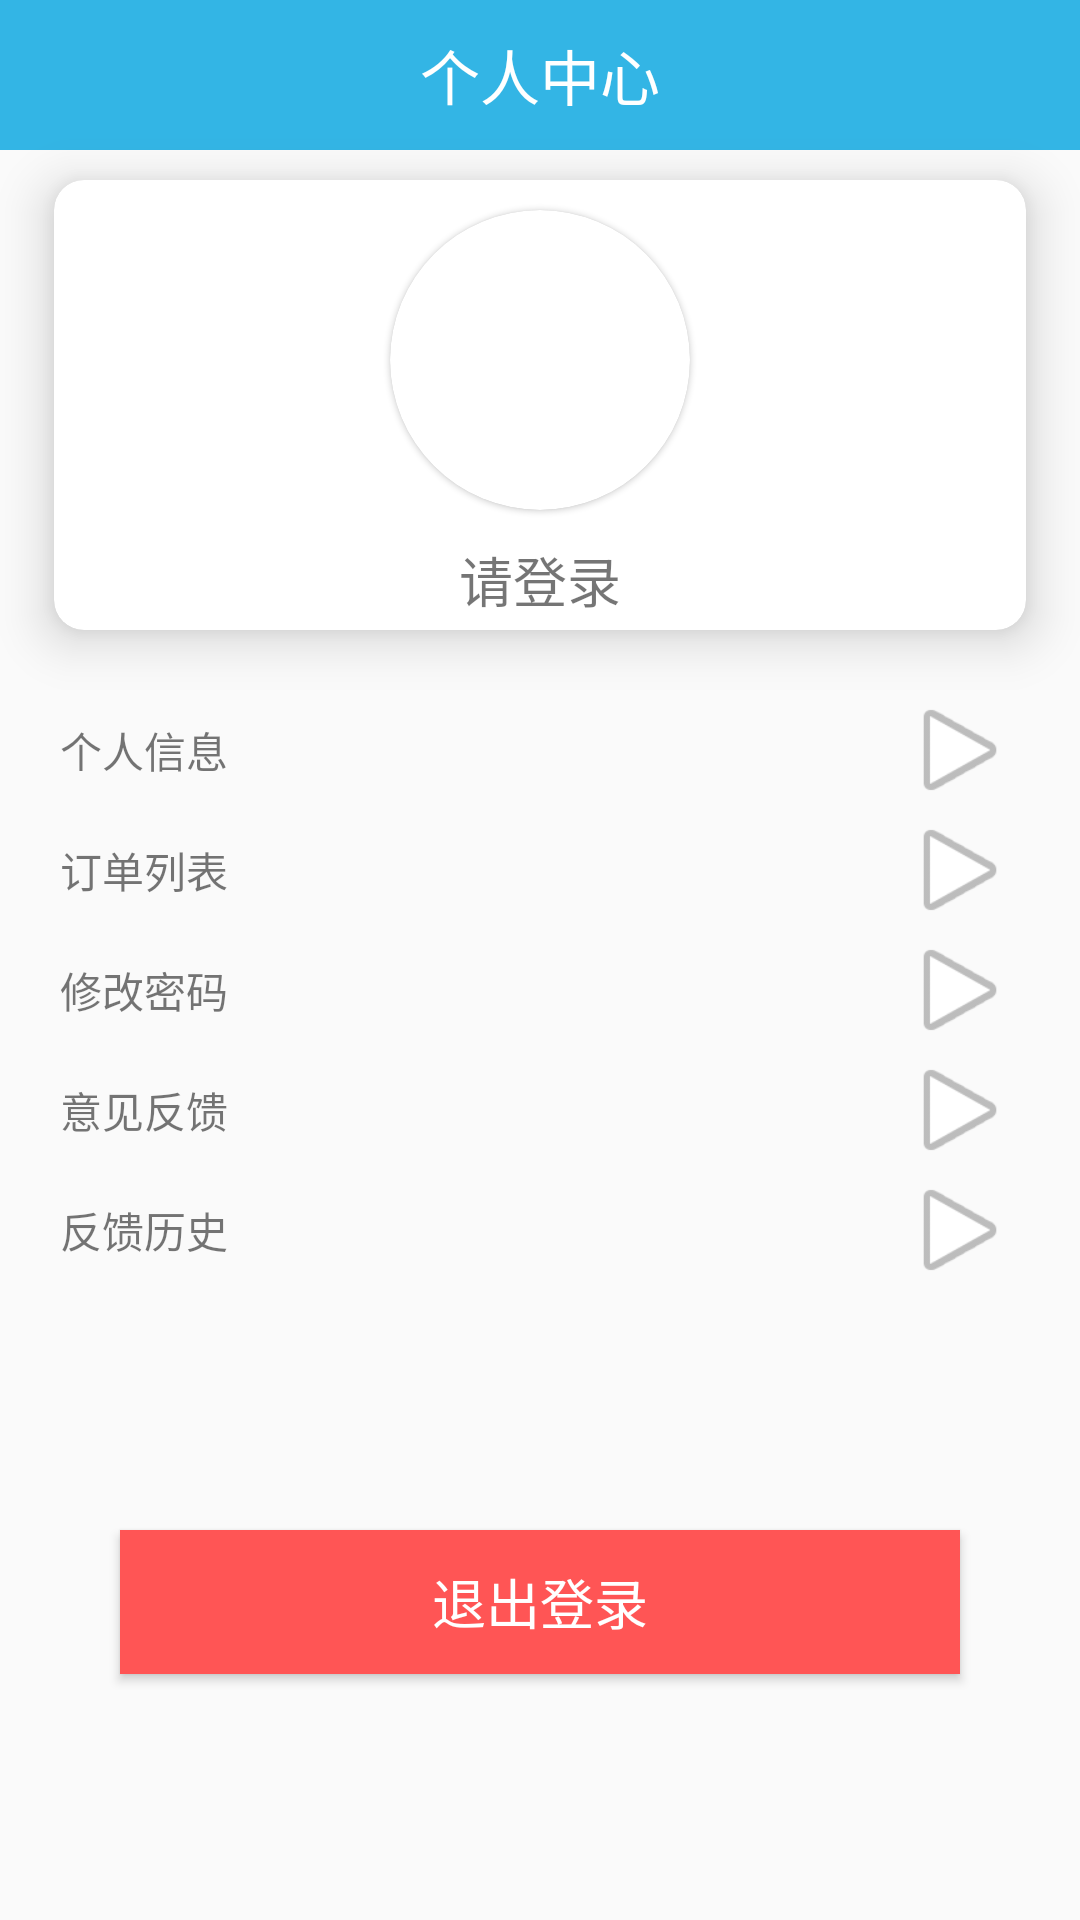

Locate icon controls on the screen. Image size 1080 x 1920, boxes as bbox=(x1, y1, x2, y2).
play: bbox=(924, 710, 996, 790), bbox=(924, 830, 996, 910), bbox=(924, 950, 996, 1030), bbox=(924, 1070, 996, 1150), bbox=(924, 1190, 996, 1270)
